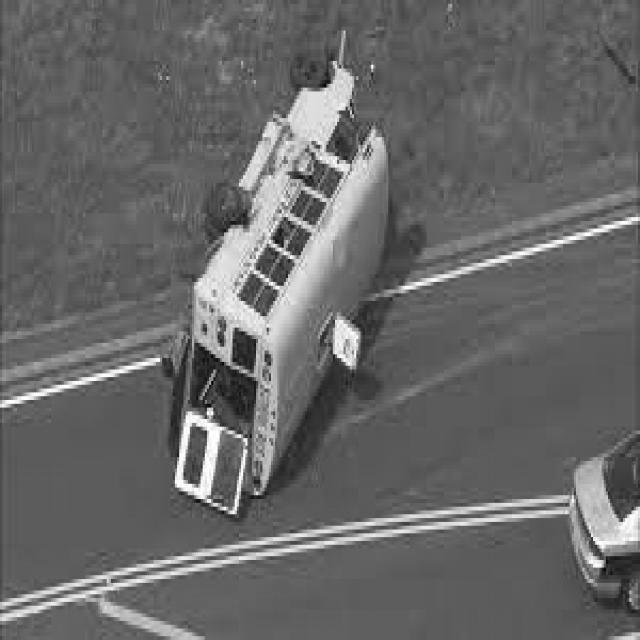accident: (157, 14, 394, 513)
vehicle: (565, 425, 639, 620)
